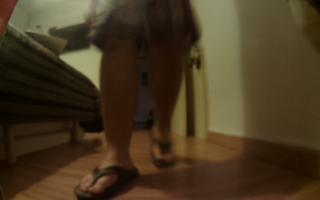person: (72, 1, 199, 200)
